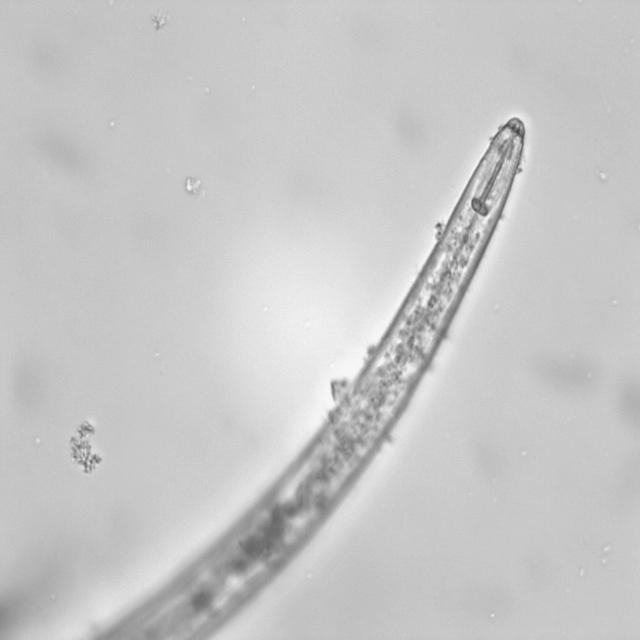Helicotylenchus: (305, 111, 541, 473)
